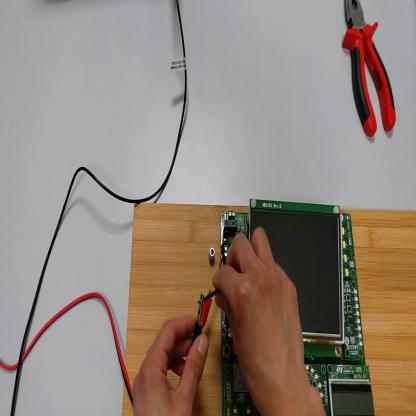hand: (213, 224, 310, 398), (129, 313, 214, 415)
low voltage board: (198, 199, 374, 416)
pliers: (340, 1, 397, 138)
